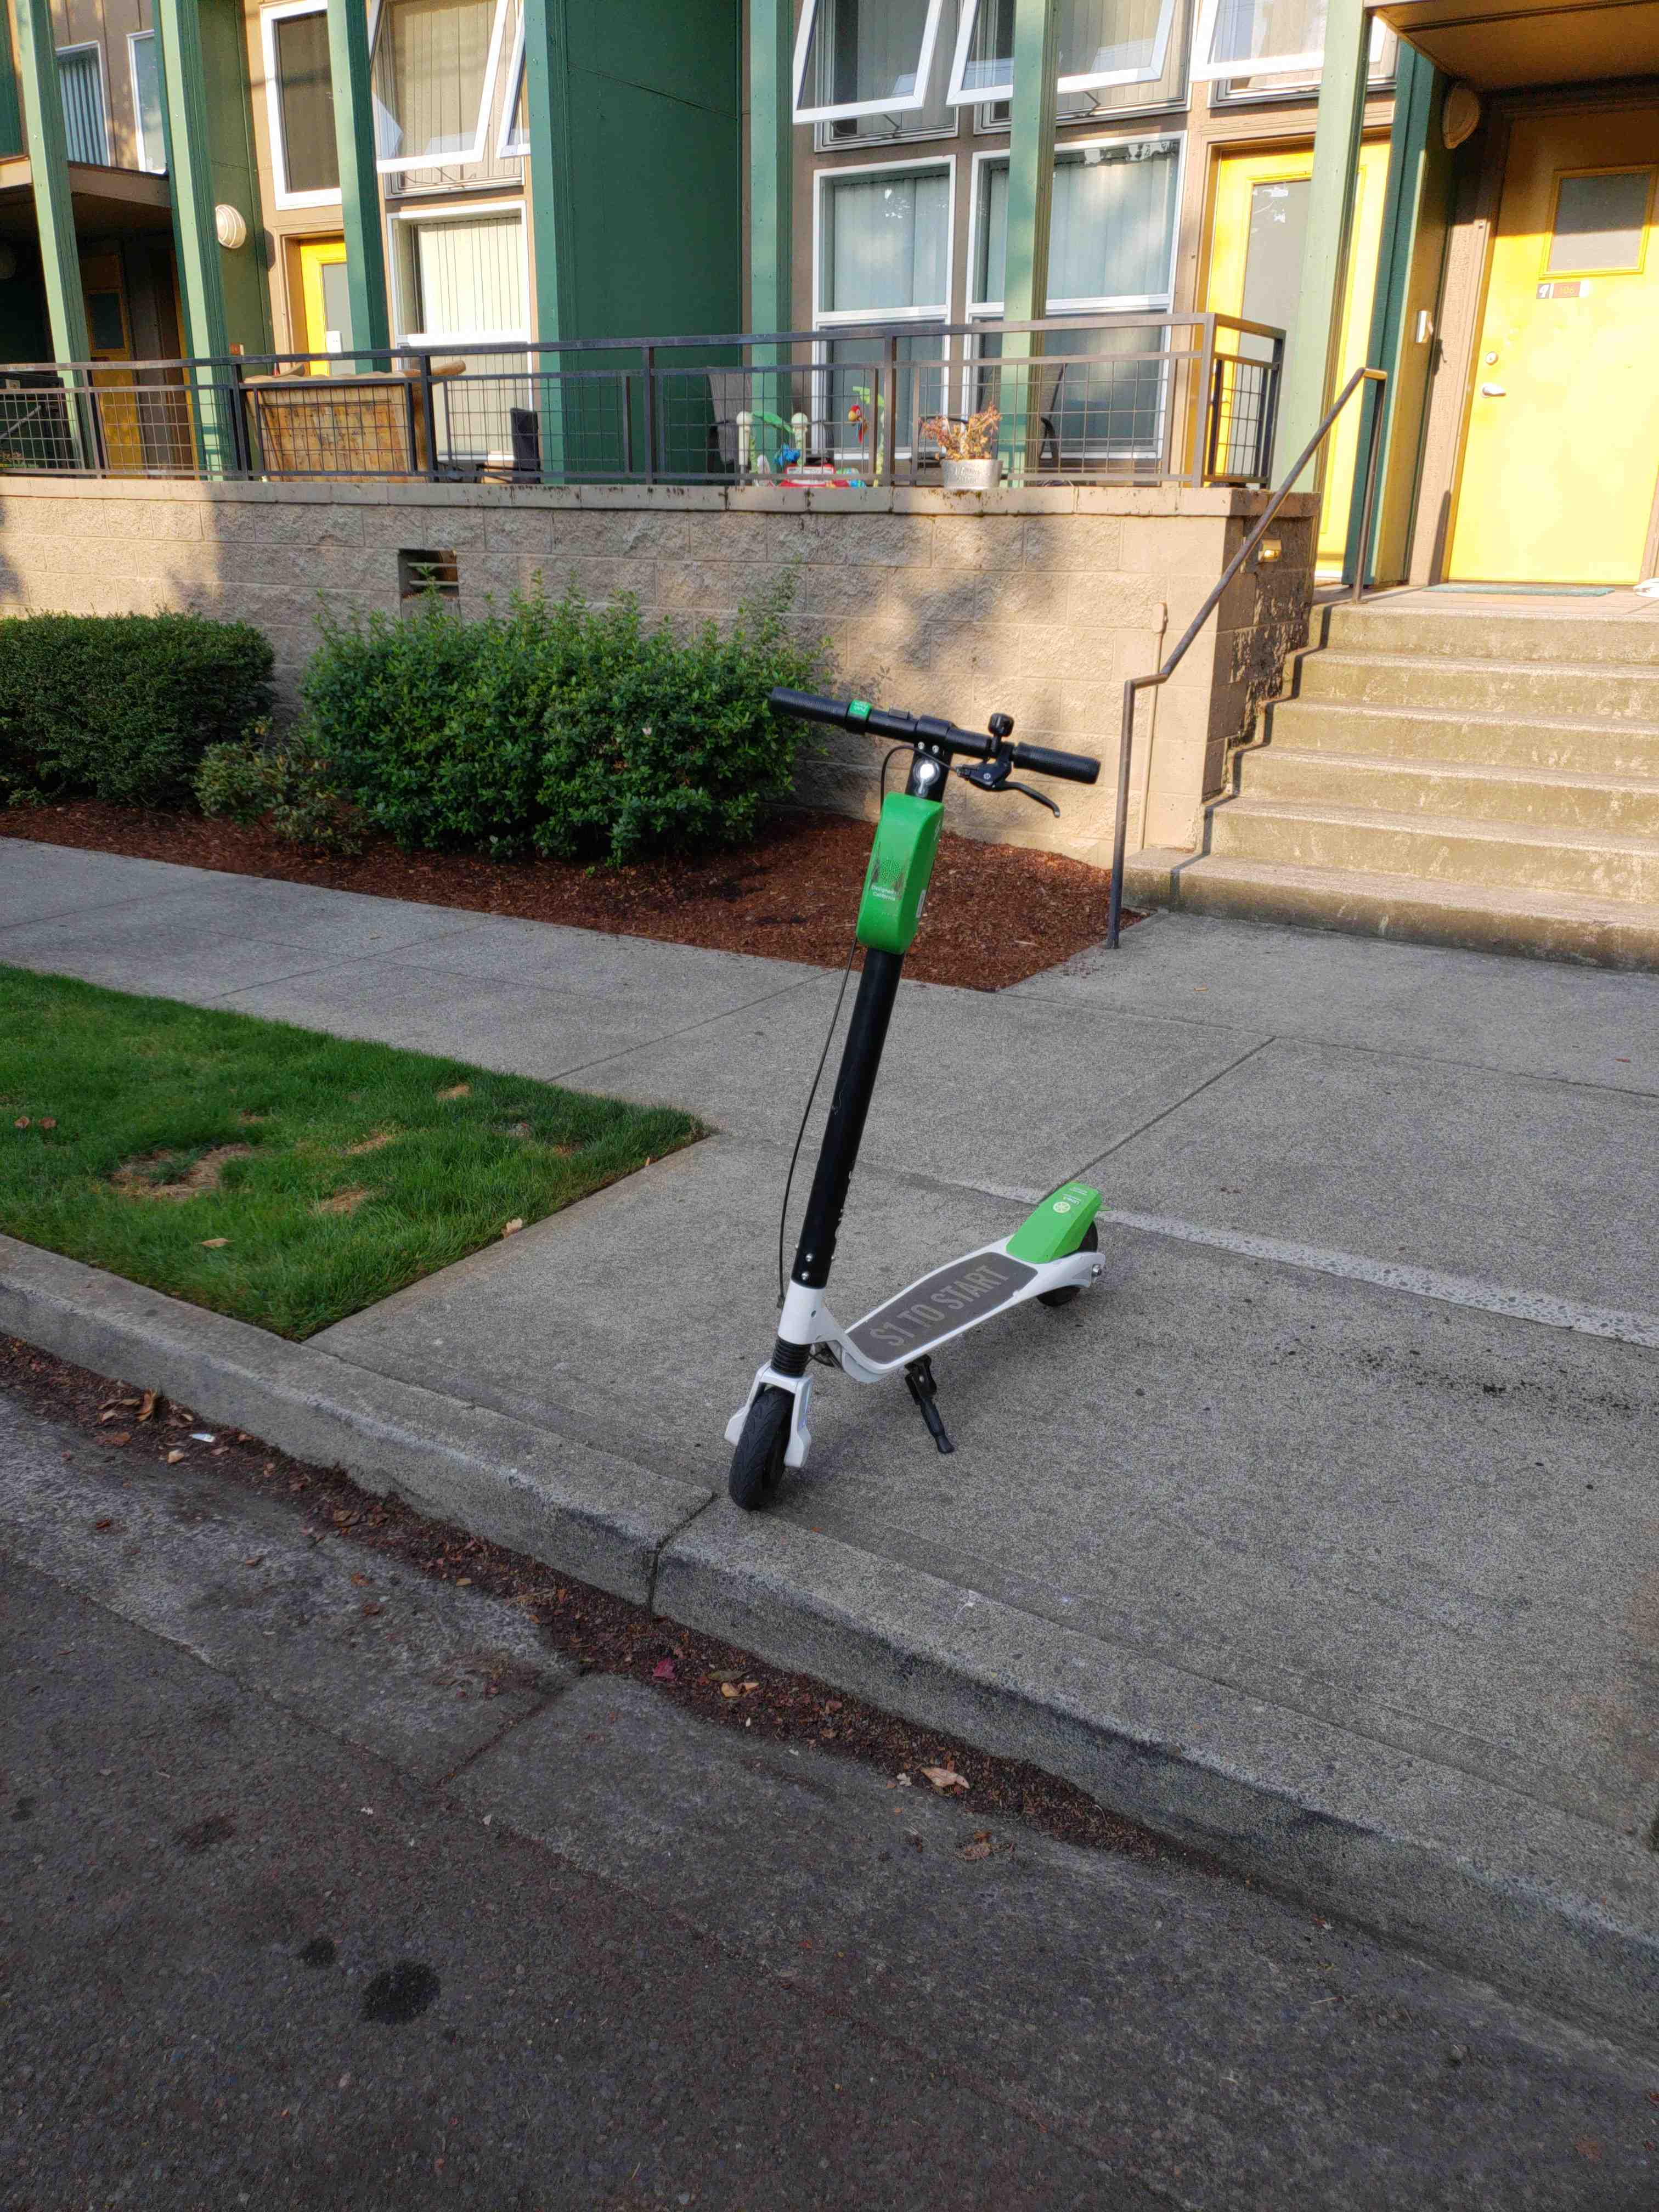scooter: (706, 711, 1152, 1547)
